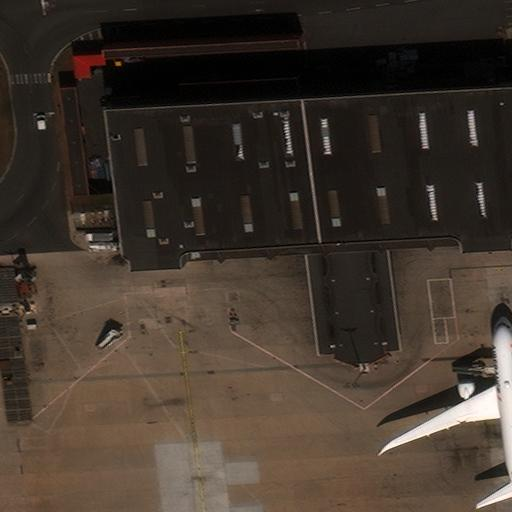Large Civil Transport: (383, 317, 511, 499)
